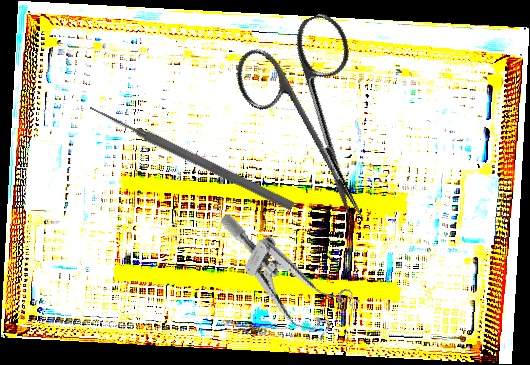Iris Scissors: (224, 8, 414, 242)
Pusher: (87, 101, 296, 213)
Speculum: (193, 212, 368, 349)
